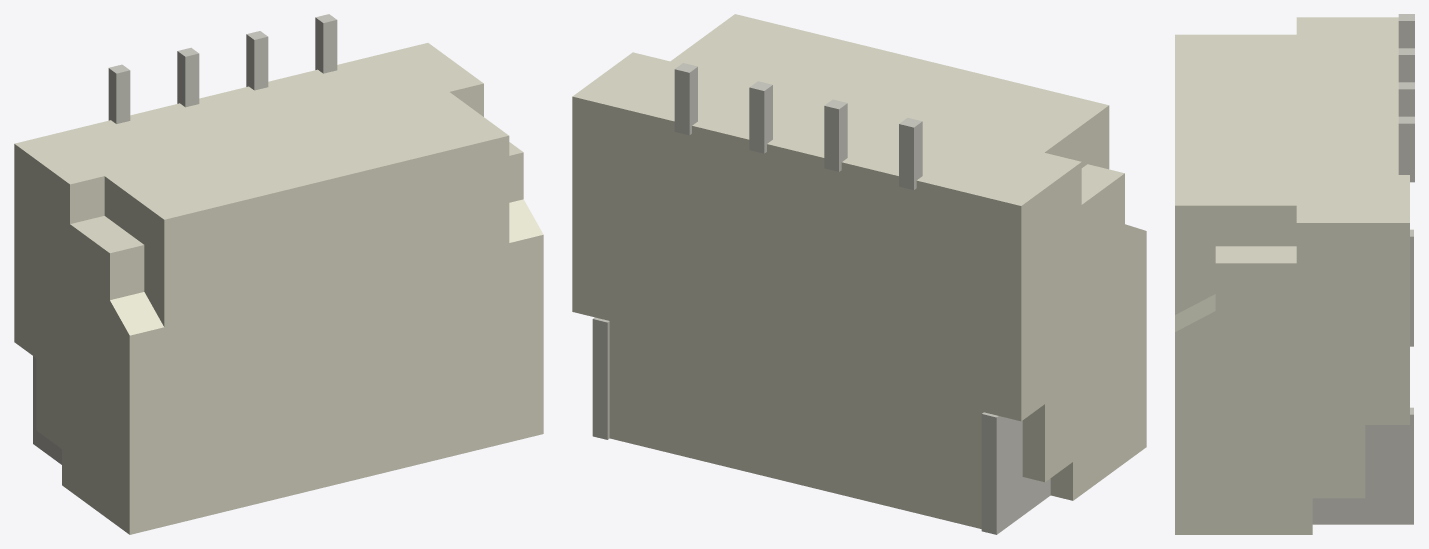
File: Connector_JST_JST_SH_SM04B-SRSS-TB_1x04-1MP_P1.00mm_Horizontal.glb
3 views of the same model, side by side, from view 1: azimuth 30°, elevation 25°; view 2: azimuth 150°, elevation 25°; view 3: azimuth 270°, elevation 25° (orthographic). The views are drawn at different scales.
Bounding box in the file's own units: 6 × 4.95 × 2.96.
